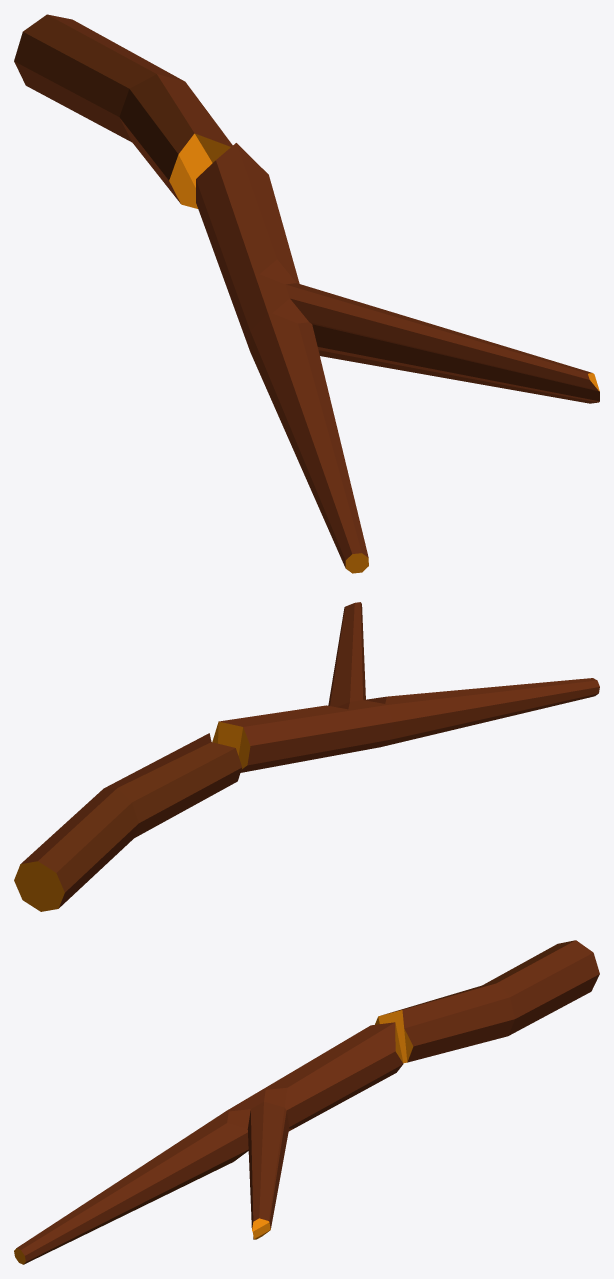
Rendered from Stick_44.fbx.
3 renders of one model, top to bottom at view 1: azimuth 30°, elevation 25°; view 2: azimuth 150°, elevation 25°; view 3: azimuth 330°, elevation 25°, orthographic. The views are drawn at different scales.
Parts seen in each view (by area): view 1: Circle.426, Circle.419; view 2: Circle.426, Circle.419; view 3: Circle.426, Circle.419.
Part boxes in pixels (x1=…): Circle.426: x1=196, y1=143, x2=599, y2=573; Circle.419: x1=14, y1=14, x2=232, y2=208; Circle.426: x1=212, y1=602, x2=599, y2=772; Circle.419: x1=14, y1=733, x2=241, y2=911; Circle.426: x1=14, y1=1022, x2=403, y2=1264; Circle.419: x1=375, y1=940, x2=599, y2=1063.
Bounding box in the file's own units: 14.62 × 6.88 × 45.42.
